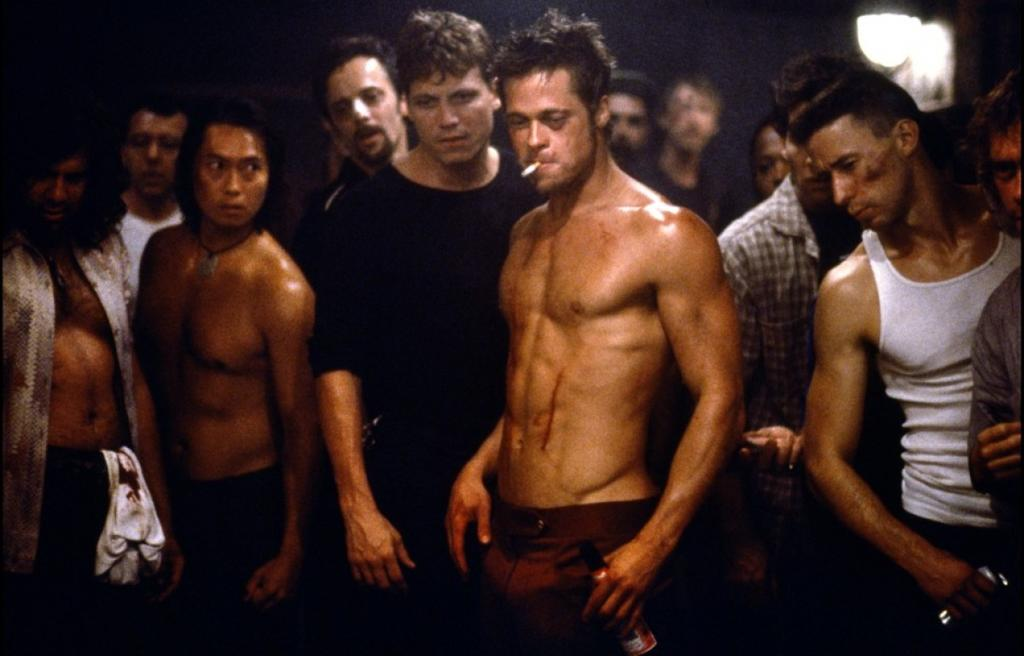face: (502, 67, 594, 187), (807, 119, 894, 228), (412, 55, 490, 163), (785, 106, 864, 208), (196, 124, 269, 227), (328, 57, 399, 158), (130, 111, 185, 194), (757, 126, 814, 206), (37, 155, 85, 228), (990, 121, 1024, 219), (668, 82, 713, 151), (600, 93, 646, 151)
